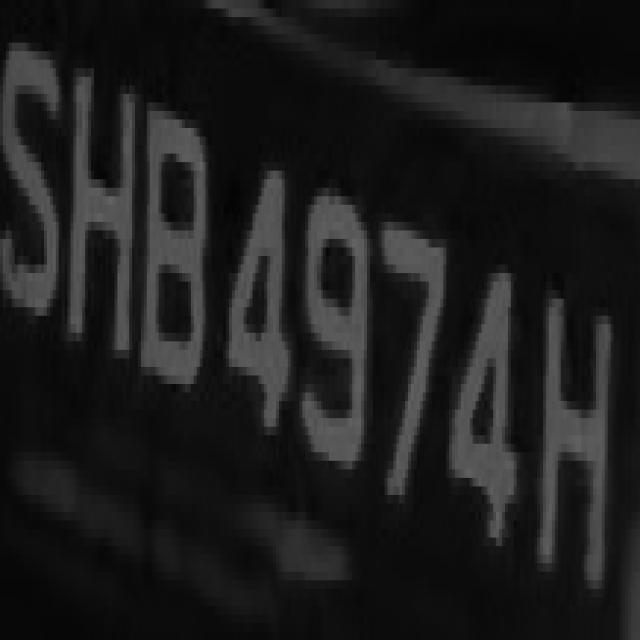4: (444, 231, 526, 564), (220, 120, 288, 470)
7: (364, 188, 443, 546)
9: (299, 154, 370, 495)
B: (141, 77, 205, 418)
H: (532, 256, 622, 606), (65, 68, 146, 367)
S: (6, 9, 67, 358)
